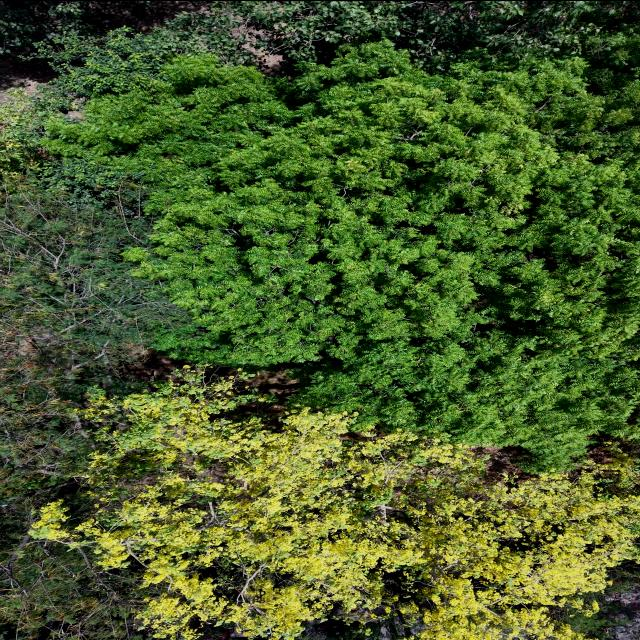DRY_AREA: (87, 1, 208, 34), (87, 1, 207, 33), (606, 585, 639, 639)
VEGETATION_TREE: (0, 1, 639, 639), (47, 43, 638, 469), (30, 372, 637, 639), (0, 160, 183, 639), (30, 1, 637, 130), (43, 1, 637, 95), (0, 1, 207, 85), (0, 1, 206, 53)
